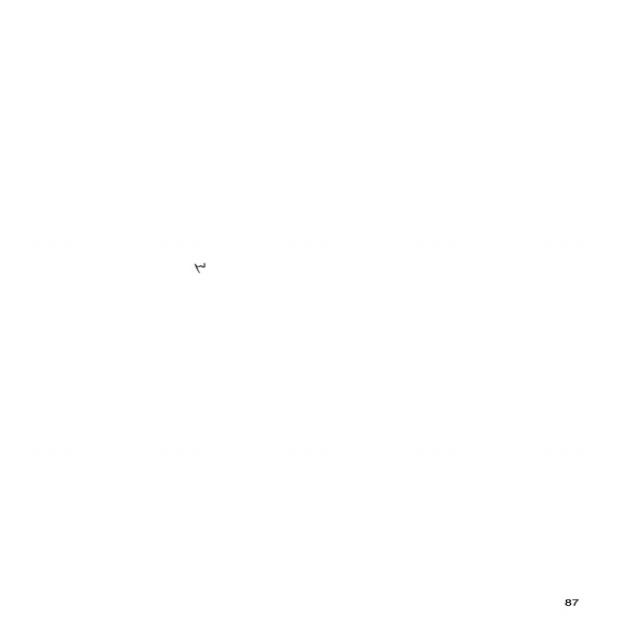3 -three-: (191, 260, 209, 276)
